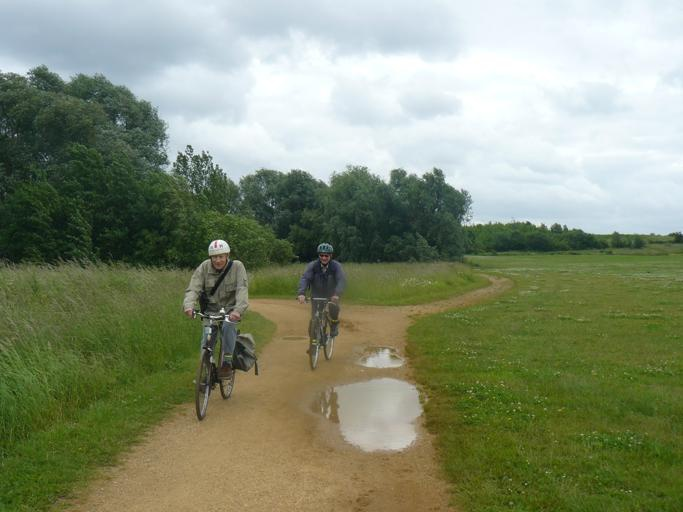non-vehicle: (184, 309, 237, 423), (294, 294, 334, 369)
